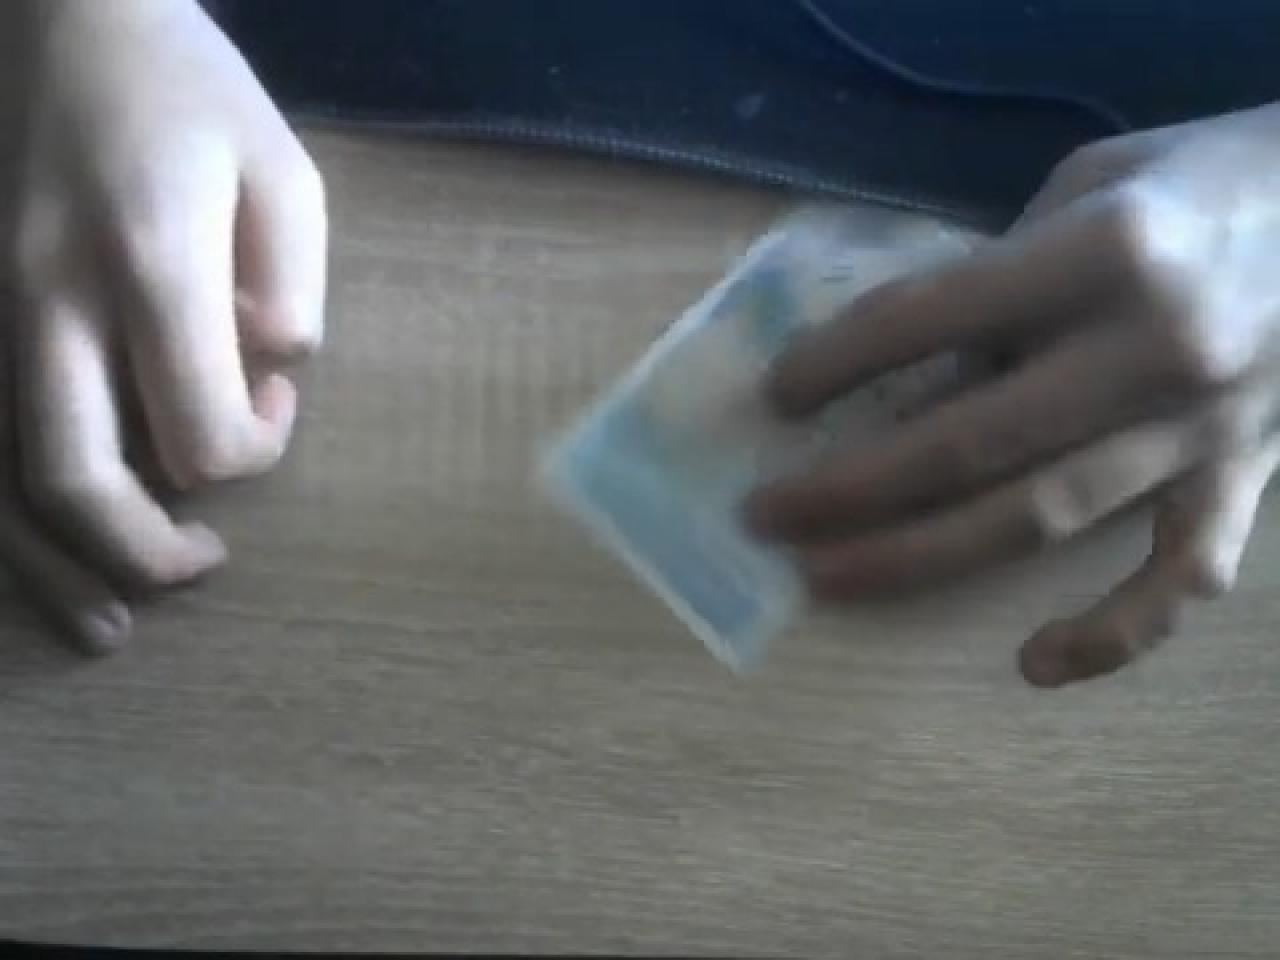20leva: (538, 104, 1280, 675)
